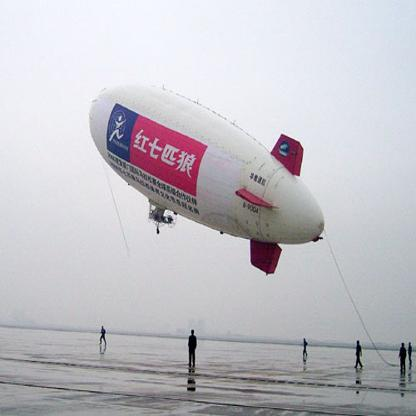Airship: (83, 78, 329, 275)
